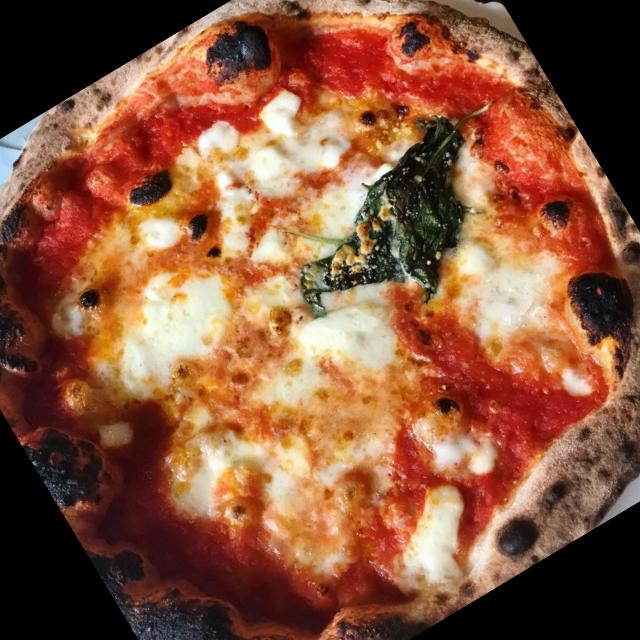pizza: (0, 0, 640, 640)
